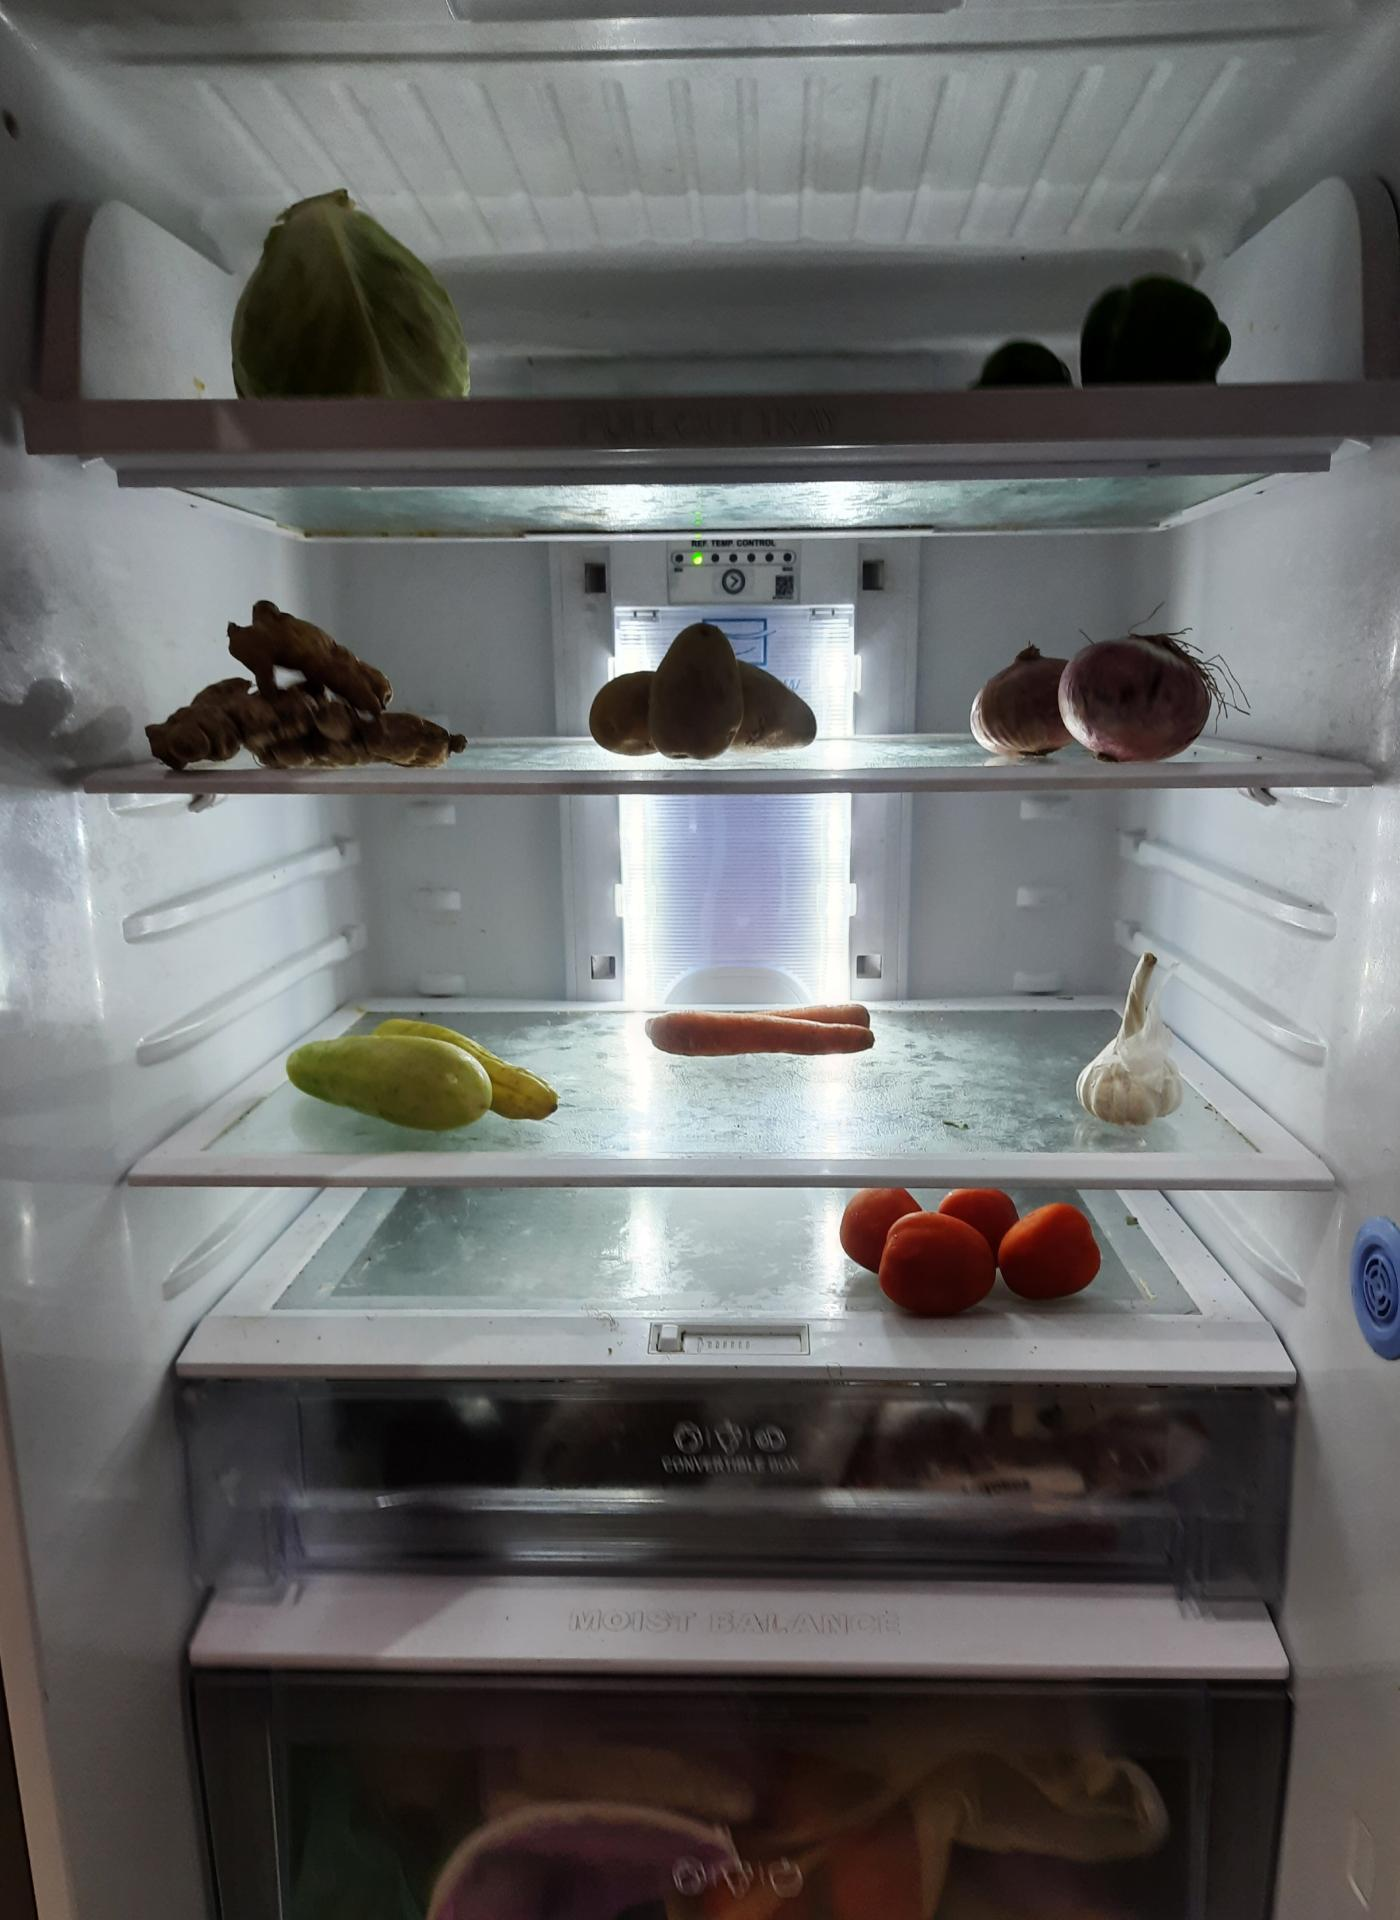cabbage: (228, 182, 470, 401)
capsicum: (977, 255, 1240, 398)
carrots: (646, 1000, 878, 1066)
cucumber: (289, 1023, 567, 1134)
garlic: (1078, 944, 1181, 1131)
ginger: (148, 596, 467, 774)
onion: (966, 625, 1220, 760)
potato: (580, 619, 817, 762)
tomato: (827, 1181, 1108, 1313)
